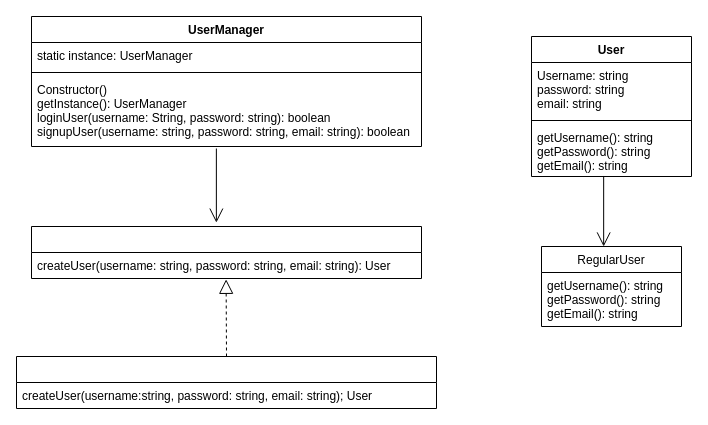
Some shapes in this 708 by 425 pixel diagram are drawn without their labels. The box of each missing label's shape, as (x1, y1, x2, y2) in pixels:
RegularUserFactory: (16, 356, 436, 408)
UserFactory: (30, 226, 422, 278)
